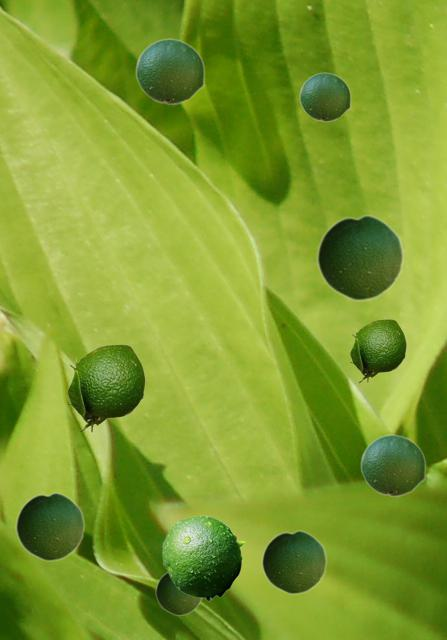dalandan: (316, 214, 403, 301), (162, 515, 244, 600), (66, 344, 144, 432), (15, 491, 84, 561), (135, 38, 204, 104), (261, 529, 326, 594), (360, 434, 425, 496), (349, 319, 405, 382), (299, 72, 350, 121), (155, 572, 202, 615)
